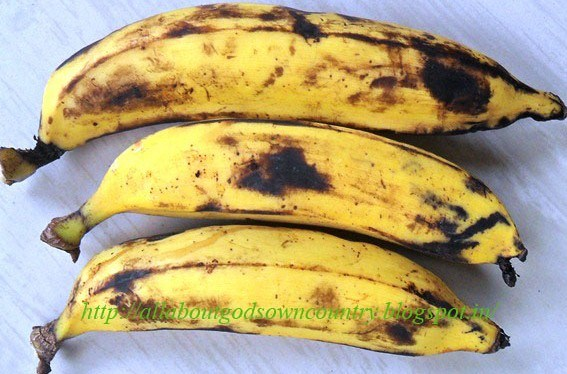banana: (7, 1, 567, 138), (37, 225, 538, 374), (43, 123, 529, 272)
